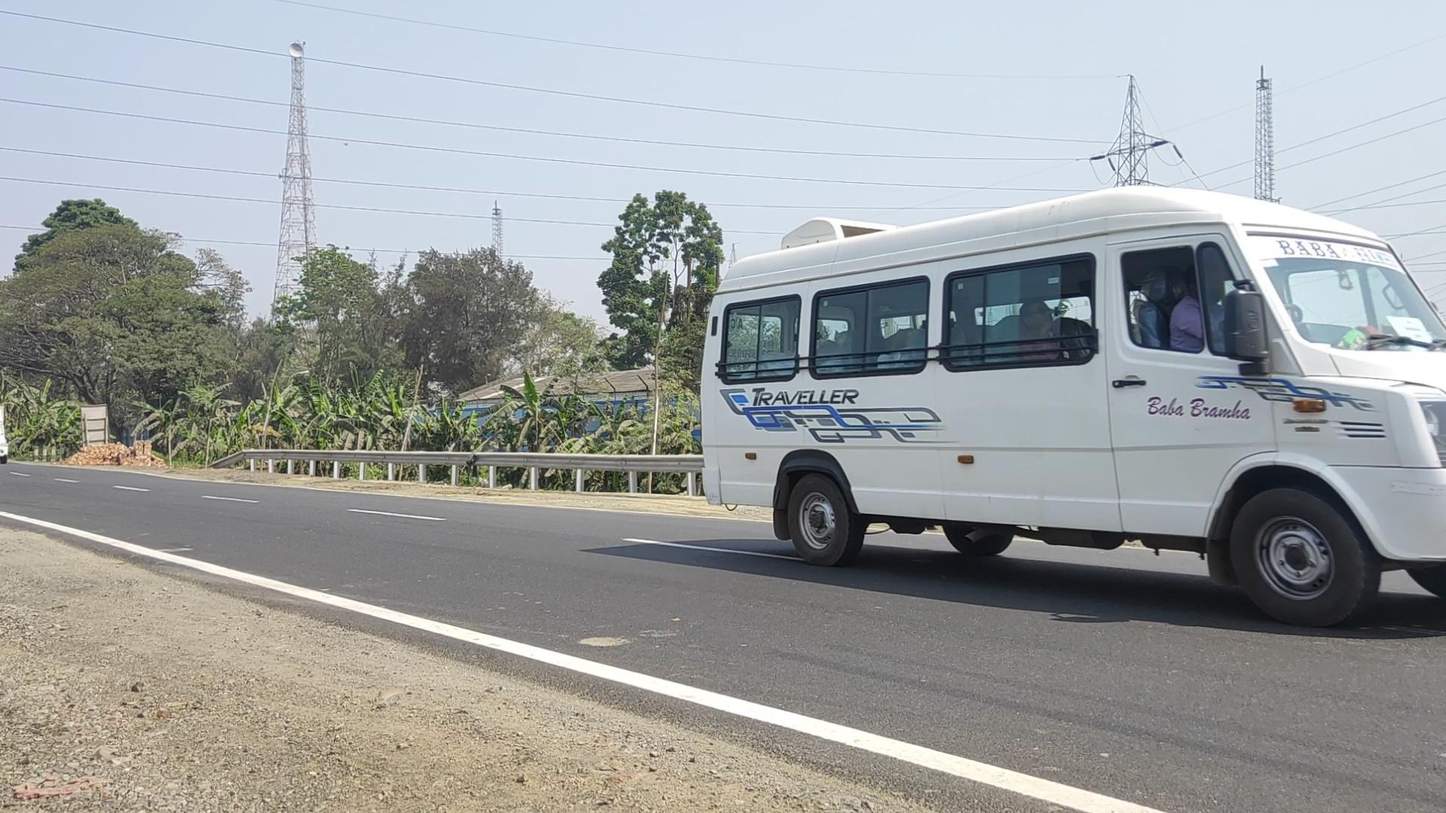van: (699, 185, 1446, 628)
